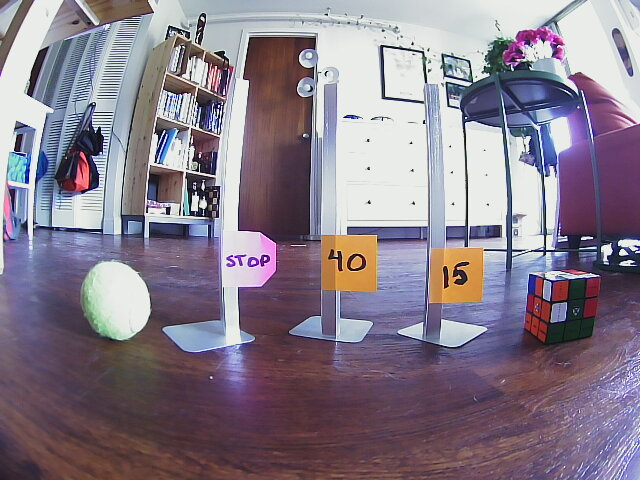15: (427, 245, 486, 301)
40: (320, 233, 378, 293)
ball: (78, 260, 152, 340)
cube: (525, 270, 599, 345)
stop: (221, 230, 279, 291)
